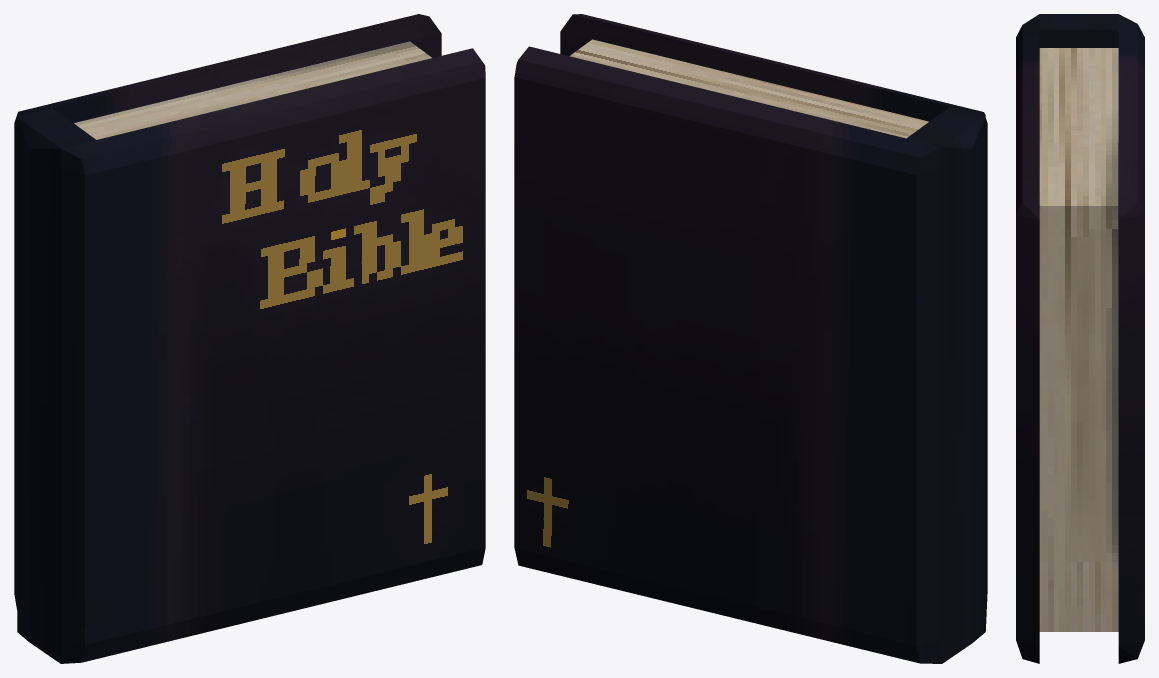
Rendered from PocketBible.glb.
3 renders of one model, left to right at view 1: azimuth 30°, elevation 25°; view 2: azimuth 150°, elevation 25°; view 3: azimuth 270°, elevation 25°, orthographic. The views are drawn at different scales.
Parts seen in each view (by area): view 1: Pocket Bible; view 2: Pocket Bible; view 3: Pocket Bible.
Part boxes in pixels (box(x1,y1,x2,y2)): Pocket Bible: box(14, 14, 485, 663); Pocket Bible: box(514, 14, 987, 663); Pocket Bible: box(1016, 14, 1144, 663).
Bounding box in the file's own units: 0.5178 × 0.5879 × 0.1468.
1 material, 1 textured.
